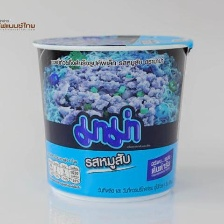paper_cup: (27, 30, 198, 205)
